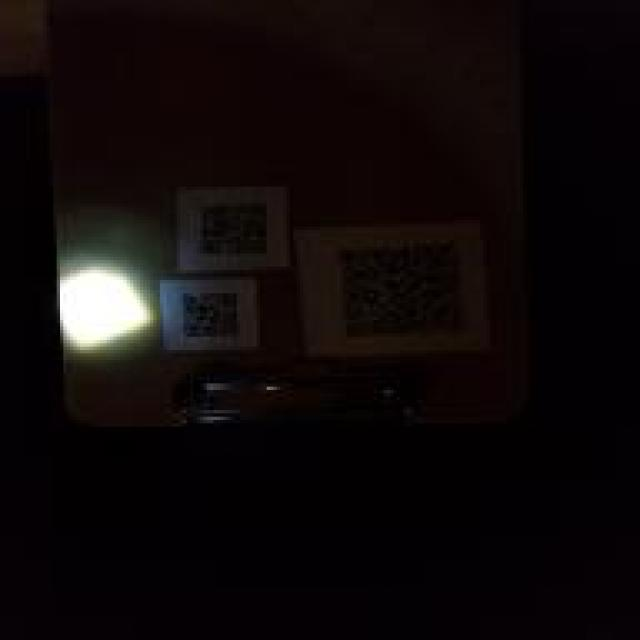qr_code: (338, 240, 465, 340), (199, 201, 269, 256), (183, 290, 240, 338)
